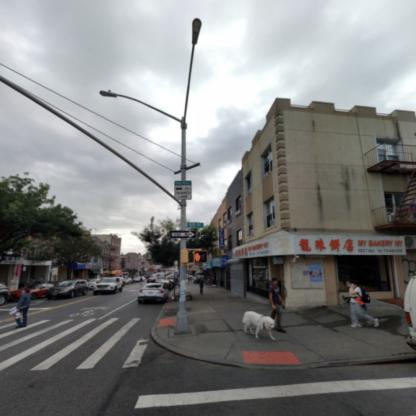Streetlights 1: (95, 78, 227, 349)
